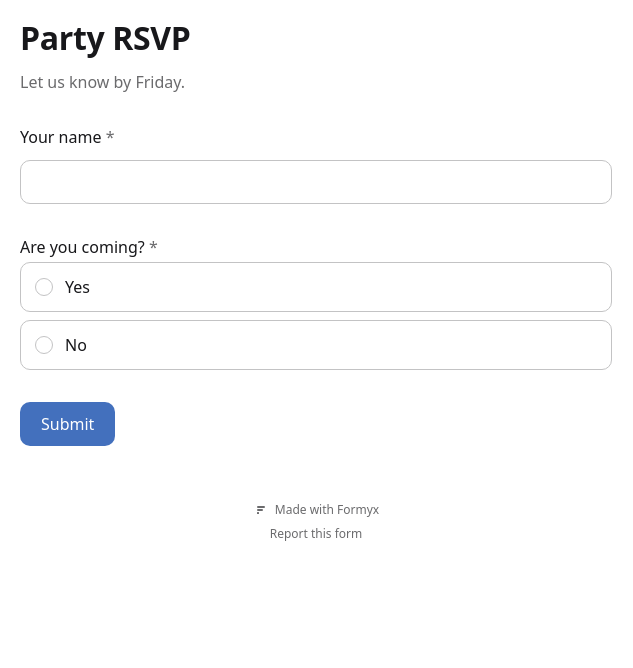
it: PublicFormPage › checks the answers before sending, focusing the first problem
Expected: the heading "Party RSVP" is shown, [20,16,190,59]
Click the radio button labelled "Yes" at (44, 287), box [20,262,612,312]
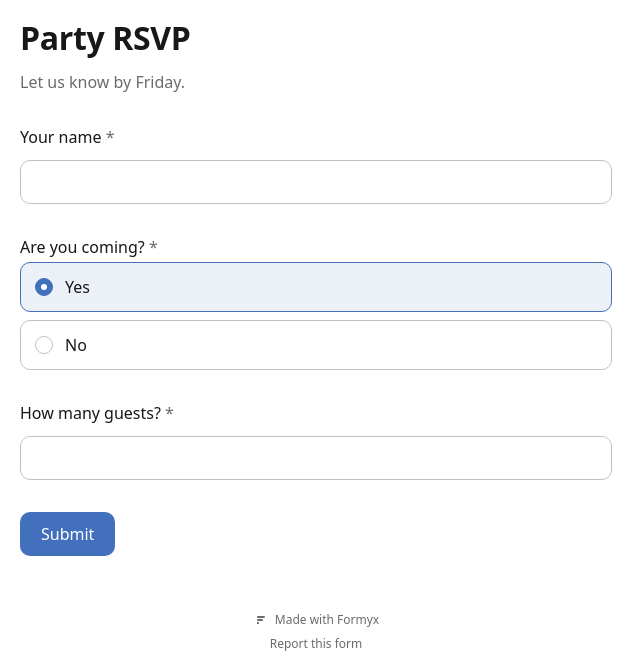
Click the button "Submit" at (68, 534), box [20,512,115,556]
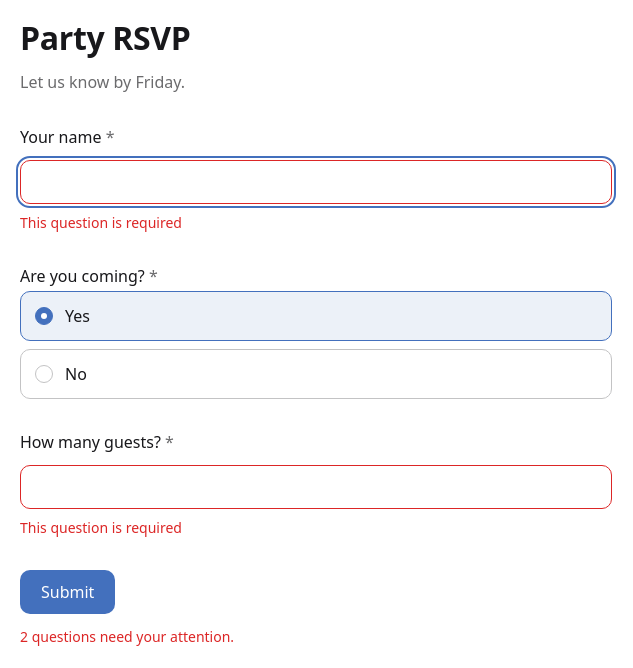
Expected: the message reads "2 questions need your attention.", [20,627,234,646]
